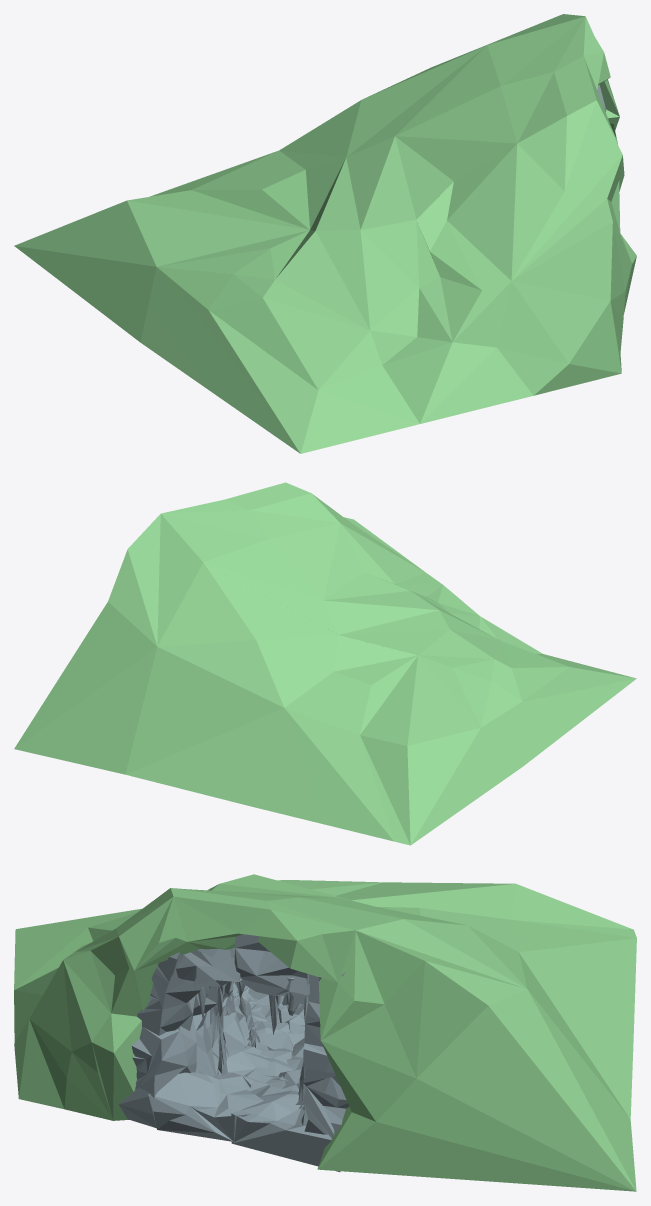
File: Cave.fbx
3 views of the same model, one above another, from view 1: azimuth 30°, elevation 25°; view 2: azimuth 150°, elevation 25°; view 3: azimuth 270°, elevation 25° (orthographic). The views are drawn at different scales.
Parts seen in each view (by area): view 1: Cave_right_grass, Cave_left_grass, Cave_roof_grass_mesh2049783935; view 2: Cave_right_grass, Cave_roof_grass_mesh2049783935, Cave_left_grass; view 3: Cave_right_grass, Cave_left_grass, Cave_ground_rocks_mesh671066756, Cave_roof_grass_mesh2049783935, Cave_right_wall_rocks_mesh1111335253, Cave_roof_rocks_mesh1671372048, Cave_left_wall_rocks_mesh1047636353, Cave_stalactite_ground_mesh1253478651, Cave_stalactite_top_mesh1064773130.
Part boxes in pixels (x1,y1,x2,y2): Cave_right_grass: [14, 14, 619, 453]; Cave_left_grass: [382, 100, 636, 423]; Cave_roof_grass_mesh2049783935: [275, 16, 617, 364]; Cave_right_grass: [14, 514, 636, 845]; Cave_roof_grass_mesh2049783935: [161, 482, 499, 658]; Cave_left_grass: [312, 494, 542, 653]; Cave_right_grass: [14, 880, 636, 1191]; Cave_left_grass: [14, 888, 173, 1120]; Cave_ground_rocks_mesh671066756: [148, 982, 340, 1171]; Cave_roof_grass_mesh2049783935: [134, 874, 403, 982]; Cave_right_wall_rocks_mesh1111335253: [118, 952, 249, 1128]; Cave_roof_rocks_mesh1671372048: [176, 934, 309, 1004]; Cave_left_wall_rocks_mesh1047636353: [303, 972, 349, 1138]; Cave_stalactite_ground_mesh1253478651: [217, 994, 308, 1125]; Cave_stalactite_top_mesh1064773130: [198, 977, 299, 1034].
Size of the model in its own units: 213 by 88.15 by 210.
